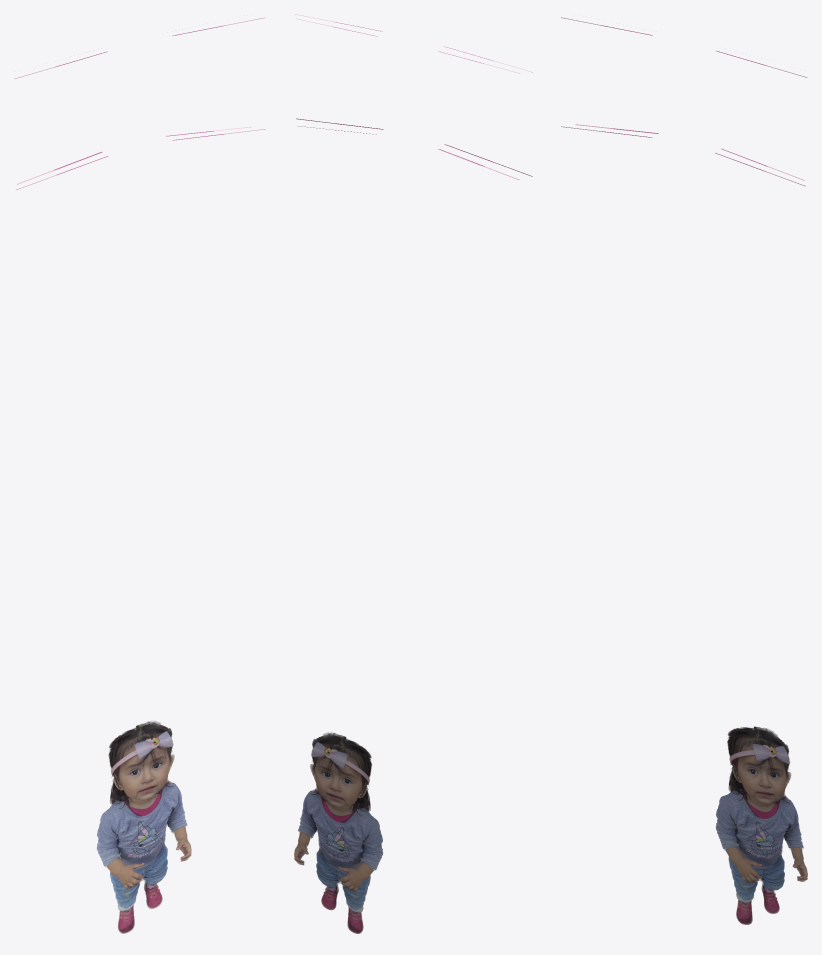
Rendered from muneca1.glb.
3 views of the same model, side by side, from view 1: azimuth 30°, elevation 25°; view 2: azimuth 150°, elevation 25°; view 3: azimuth 330°, elevation 25° (orthographic). The views are drawn at different scales.
Parts seen in each view (by area): view 1: Asunto.001; view 2: Asunto.001; view 3: Asunto.001.
Part boxes in pixels (x1,y1,x2,y2): Asunto.001: (97,721,191,933); Asunto.001: (294,732,382,933); Asunto.001: (716,726,807,924).
Bounding box in the file's own units: 2.59 × 9.07 × 0.6849.
Materials: 2 (2 with a texture image).
